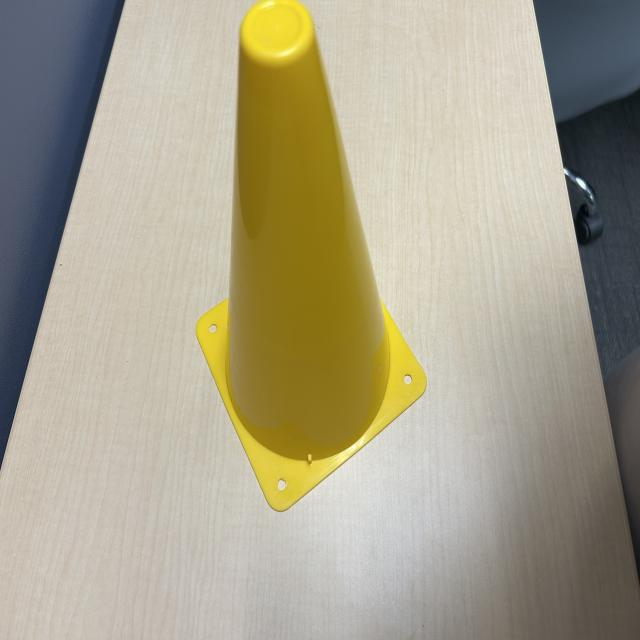yellow cone: (195, 0, 428, 520)
